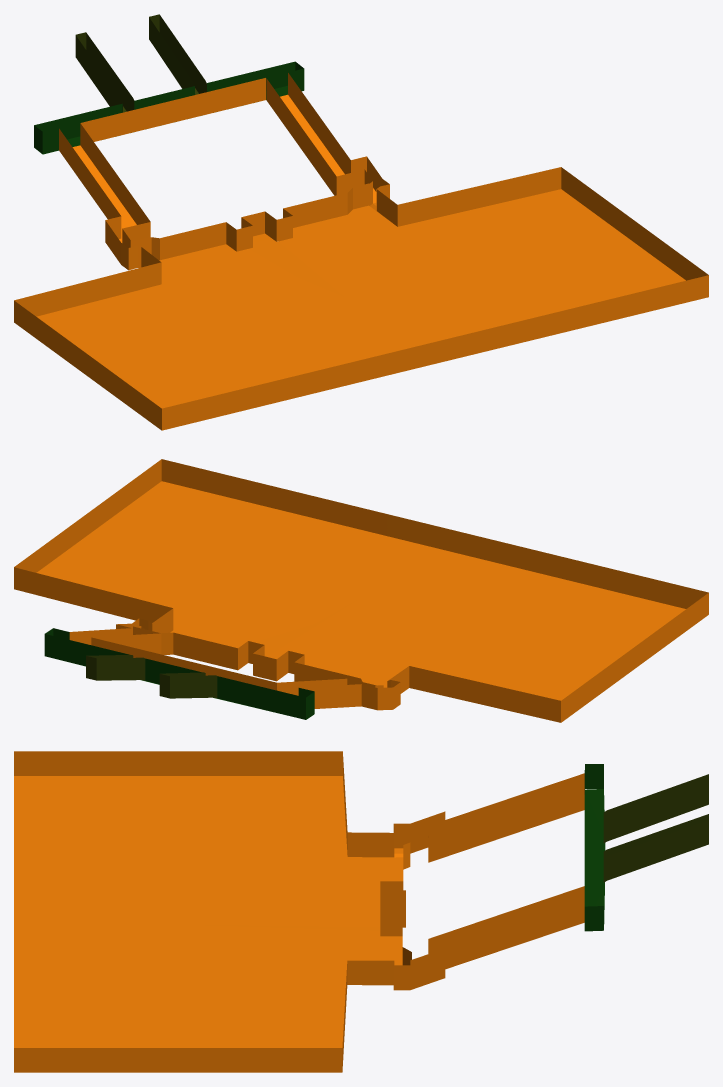
File: pasillo_col.FBX
The picture shows the model from 3 angles, top to bottom: view 1: azimuth 30°, elevation 25°; view 2: azimuth 150°, elevation 25°; view 3: azimuth 270°, elevation 25°; orthographic projection. The views are drawn at different scales.
Parts seen in each view (by area): view 1: Banquillo_col_mesh; view 2: Banquillo_col_mesh; view 3: Banquillo_col_mesh.
Boxes of the visible parts, bbox=[...] form: Banquillo_col_mesh: bbox=[14, 14, 708, 430]; Banquillo_col_mesh: bbox=[14, 459, 708, 722]; Banquillo_col_mesh: bbox=[14, 751, 708, 1072].
Bounding box in the file's own units: 5850 × 1146 × 5787.
